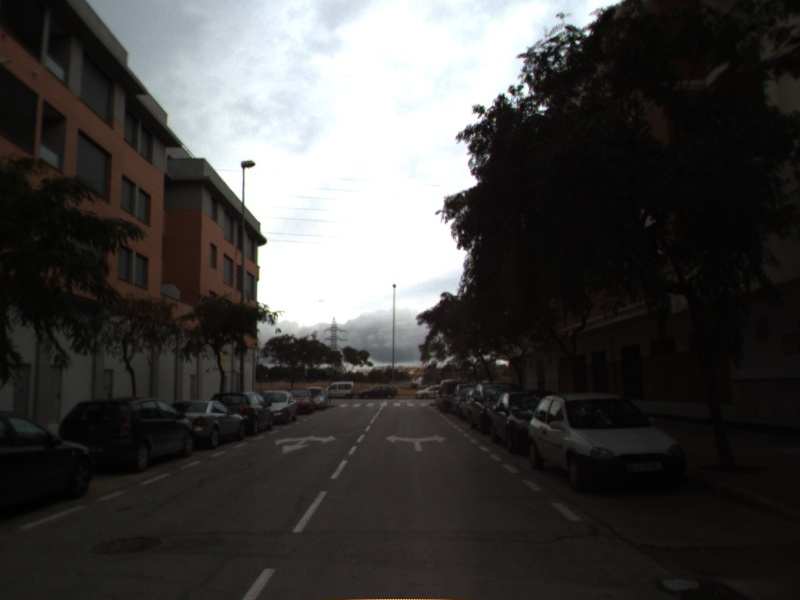LEFT_RIGHT: (383, 431, 449, 453)
